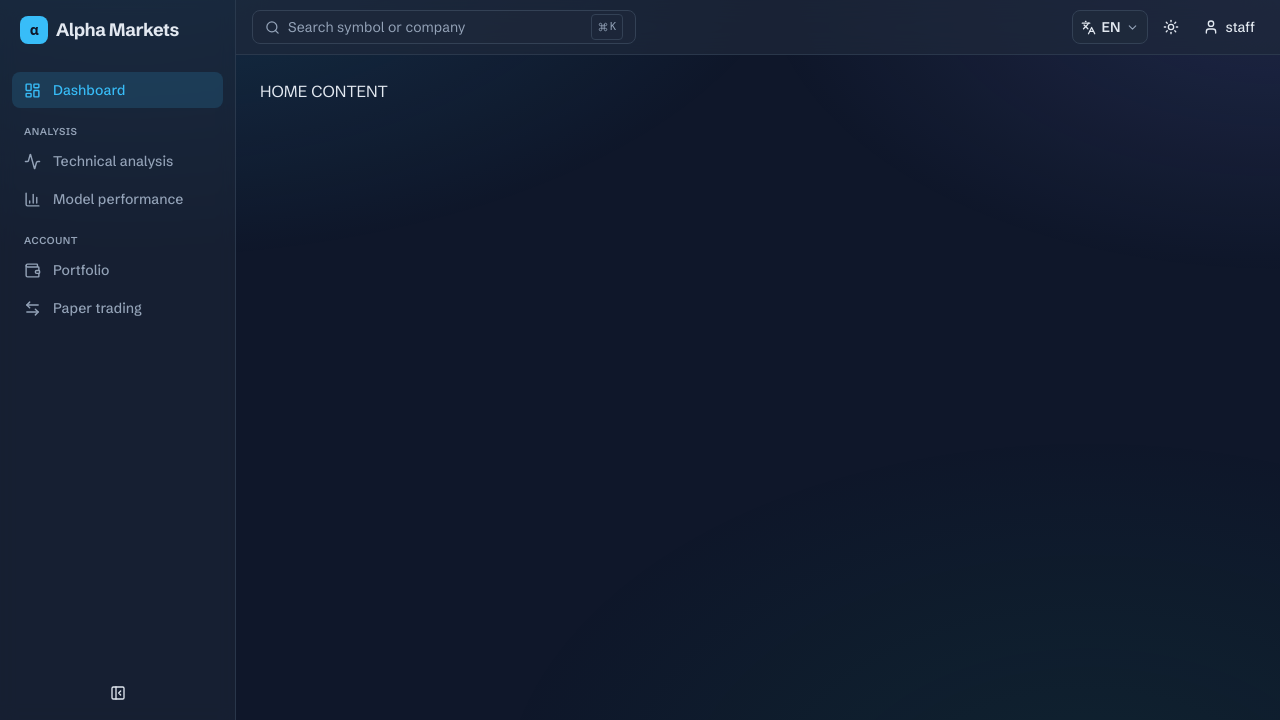
Scenario: MainLayout: role-based display › falls back to the username and shows the user role
The image size is (1280, 720).
Click the button with aria-label "Account menu" at (1229, 27), box x1=1194 y1=10 x2=1264 y2=44
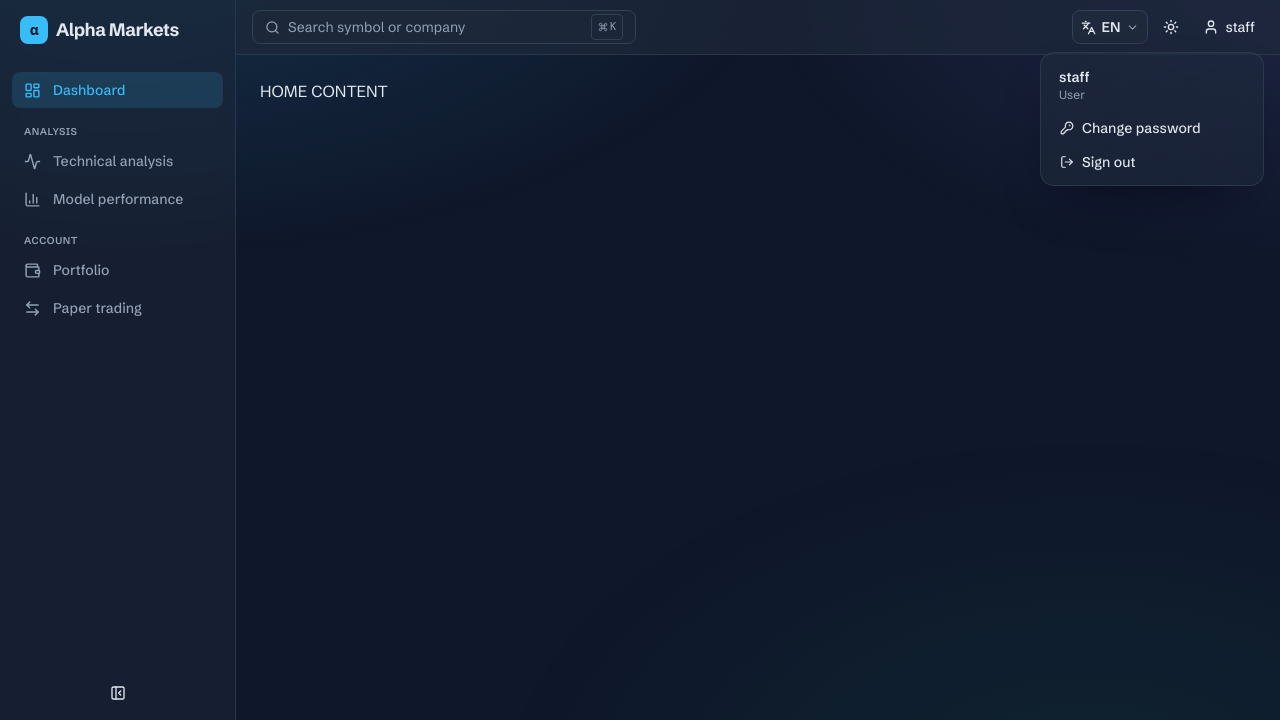
Result: the menu shows "staff" at x1=1059 y1=68 x2=1090 y2=86
Result: the menu shows "User" at x1=1059 y1=87 x2=1085 y2=102
